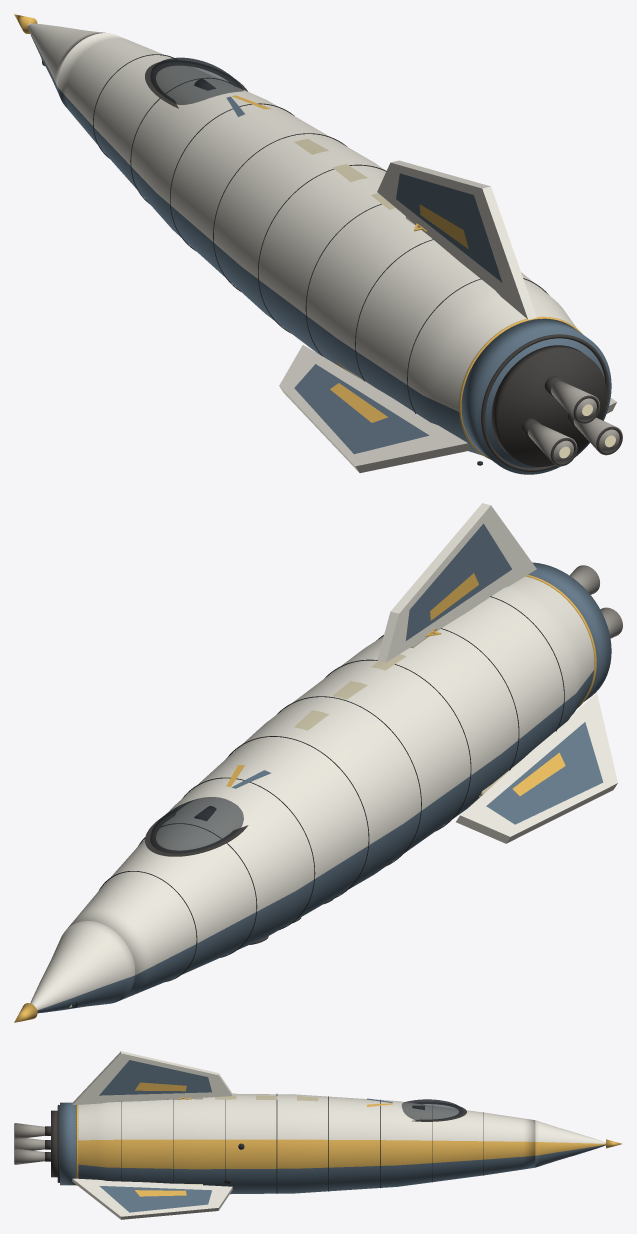
The model's file is Ship_LunarCourier_899475.glb.
3 renders of one model, top to bottom at view 1: azimuth 30°, elevation 25°; view 2: azimuth 150°, elevation 25°; view 3: azimuth 270°, elevation 25°, orthographic. The views are drawn at different scales.
Visible parts, largest first — view 1: Fuselage_TaperedPaintedBody, EngineDeck_AftDarkMountPlate, AftCollar_PrimaryEngineBand, TailFin_LeftLower_broad_CreamAerofoil, TailFin_Dorsal_broad_CreamAerofoil, TailFinPanel_LeftLower_PrimarySide_B, TailFinPanel_Dorsal_PrimarySide_A, CanopyGlass_DorsalLowInsetDome, NoseCone_PaintedNeedleSection, AftTrimRing_DarkRear, EngineBell_LeftLower_BurnishedNozzle, EngineBell_Upper_BurnishedNozzle (+5 smaller); view 2: Fuselage_TaperedPaintedBody, NoseCone_PaintedNeedleSection, TailFin_LeftLower_broad_CreamAerofoil, TailFin_Dorsal_broad_CreamAerofoil, TailFinPanel_LeftLower_PrimarySide_B, TailFinPanel_Dorsal_PrimarySide_A, CanopyGlass_DorsalLowInsetDome, AftCollar_PrimaryEngineBand, CanopyFrame_DorsalOvalRim, TailFinTrimPatch_LeftLower_B; view 3: Fuselage_TaperedPaintedBody, TailFin_Dorsal_broad_CreamAerofoil, TailFin_RightLower_broad_CreamAerofoil, TailFinPanel_Dorsal_PrimarySide_B, NoseCone_PaintedNeedleSection, TailFinPanel_RightLower_PrimarySide_A, AftCollar_PrimaryEngineBand, CanopyGlass_DorsalLowInsetDome, EngineDeck_AftDarkMountPlate, EngineBell_RightLower_BurnishedNozzle, EngineBell_Upper_BurnishedNozzle, TailFinTrimPatch_Dorsal_B (+3 smaller).
Boxes of the visible parts, box(x1,y1,x2,y2) form: Fuselage_TaperedPaintedBody: box(57, 33, 576, 455); EngineDeck_AftDarkMountPlate: box(491, 345, 606, 466); AftCollar_PrimaryEngineBand: box(461, 318, 611, 474); TailFin_LeftLower_broad_CreamAerofoil: box(279, 345, 472, 472); TailFin_Dorsal_broad_CreamAerofoil: box(377, 160, 536, 319); TailFinPanel_LeftLower_PrimarySide_B: box(294, 364, 429, 454); TailFinPanel_Dorsal_PrimarySide_A: box(396, 173, 502, 282); CanopyGlass_DorsalLowInsetDome: box(150, 57, 243, 104); NoseCone_PaintedNeedleSection: box(27, 23, 105, 95); AftTrimRing_DarkRear: box(481, 334, 609, 471); EngineBell_LeftLower_BurnishedNozzle: box(528, 423, 577, 466); EngineBell_Upper_BurnishedNozzle: box(551, 381, 599, 423); Fuselage_TaperedPaintedBody: box(66, 576, 594, 1000); NoseCone_PaintedNeedleSection: box(30, 921, 135, 1013); TailFin_LeftLower_broad_CreamAerofoil: box(456, 693, 617, 843); TailFin_Dorsal_broad_CreamAerofoil: box(377, 503, 536, 662); TailFinPanel_LeftLower_PrimarySide_B: box(486, 722, 603, 824); TailFinPanel_Dorsal_PrimarySide_A: box(406, 523, 511, 640); CanopyGlass_DorsalLowInsetDome: box(150, 797, 243, 853); AftCollar_PrimaryEngineBand: box(528, 562, 611, 701); CanopyFrame_DorsalOvalRim: box(145, 809, 248, 856); TailFinTrimPatch_LeftLower_B: box(512, 752, 565, 795); Fuselage_TaperedPaintedBody: box(78, 1093, 535, 1194); TailFin_Dorsal_broad_CreamAerofoil: box(72, 1051, 232, 1105); TailFin_RightLower_broad_CreamAerofoil: box(72, 1178, 232, 1219); TailFinPanel_Dorsal_PrimarySide_B: box(99, 1060, 211, 1095); NoseCone_PaintedNeedleSection: box(535, 1120, 605, 1167); TailFinPanel_RightLower_PrimarySide_A: box(99, 1186, 211, 1212); AftCollar_PrimaryEngineBand: box(60, 1102, 76, 1185); CanopyGlass_DorsalLowInsetDome: box(402, 1099, 463, 1120); EngineDeck_AftDarkMountPlate: box(51, 1110, 57, 1177); EngineBell_RightLower_BurnishedNozzle: box(15, 1148, 44, 1164); EngineBell_Upper_BurnishedNozzle: box(15, 1123, 44, 1139); TailFinTrimPatch_Dorsal_B: box(135, 1082, 186, 1091).
Bounding box in the file's own units: 2.8 × 2.66 × 10.62.
